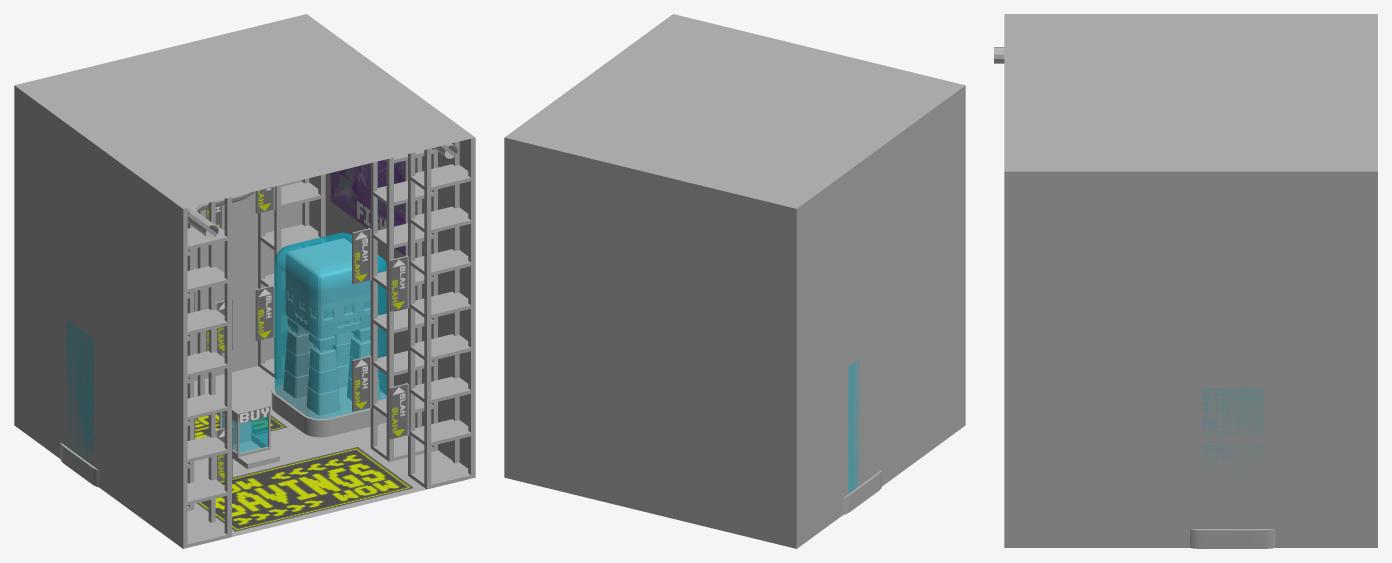
The model's file is shoppe_technology.fbx.
3 views of the same model, side by side, from view 1: azimuth 30°, elevation 25°; view 2: azimuth 150°, elevation 25°; view 3: azimuth 270°, elevation 25° (orthographic). The views are drawn at different scales.
Parts seen in each view (by area): view 1: _shoppe_base, display_glass (×2), Lickquidator_PLM2, floor_screen_big, polySurface11 (×6), polySurface10 (×6), polySurface9 (×5), poster_big2, display_base2, signage08 (×2), signage07 (×2), booth (+10 smaller); view 2: _shoppe_base, display_glass, display_base1; view 3: _shoppe_base, display_base2, display_glass.
Boxes of the visible parts, x1,y1,x2,y2 form: _shoppe_base: [14, 14, 475, 548]; display_glass (×2): [66, 232, 386, 461]; Lickquidator_PLM2: [283, 238, 380, 415]; floor_screen_big: [198, 448, 410, 530]; polySurface11 (×6): [166, 164, 475, 421]; polySurface10 (×6): [164, 181, 475, 463]; polySurface9 (×5): [165, 223, 475, 506]; poster_big2: [330, 160, 407, 255]; display_base2: [271, 383, 386, 437]; signage08 (×2): [389, 255, 409, 439]; signage07 (×2): [352, 228, 371, 411]; booth: [219, 392, 270, 461]; _shoppe_base: [504, 14, 965, 548]; display_glass: [848, 359, 861, 493]; display_base1: [843, 470, 881, 514]; _shoppe_base: [1004, 14, 1377, 547]; display_base2: [1190, 529, 1275, 548]; display_glass: [1202, 388, 1263, 479].
Size of the model in its own units: 18.26 by 20 by 18.5.
11 materials, 5 textured.
